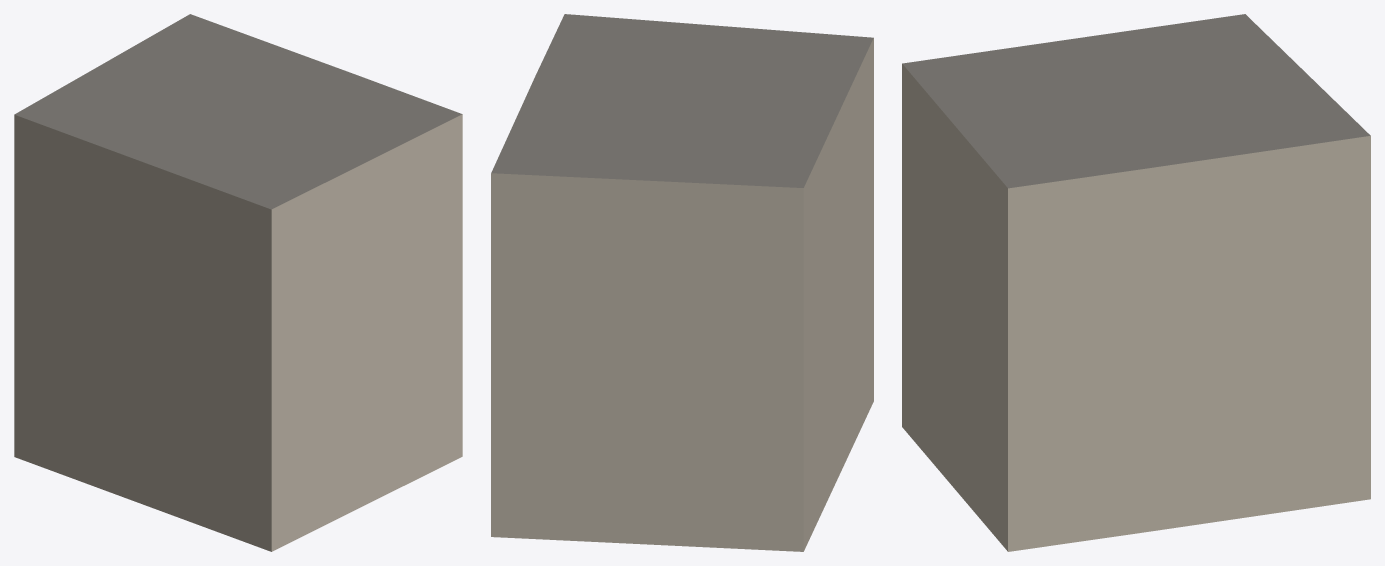
3 renders of one model, left to right at view 1: azimuth 30°, elevation 25°; view 2: azimuth 150°, elevation 25°; view 3: azimuth 270°, elevation 25°, orthographic. The views are drawn at different scales.
Visible parts, largest first — view 1: HP-w446934347; view 2: HP-w446934347; view 3: HP-w446934347.
Boxes of the visible parts, <box> form: HP-w446934347: <box>14,14,462,551</box>; HP-w446934347: <box>491,14,873,551</box>; HP-w446934347: <box>902,14,1370,551</box>.
Bounding box in the file's own units: 18.52 × 18 × 21.03.
